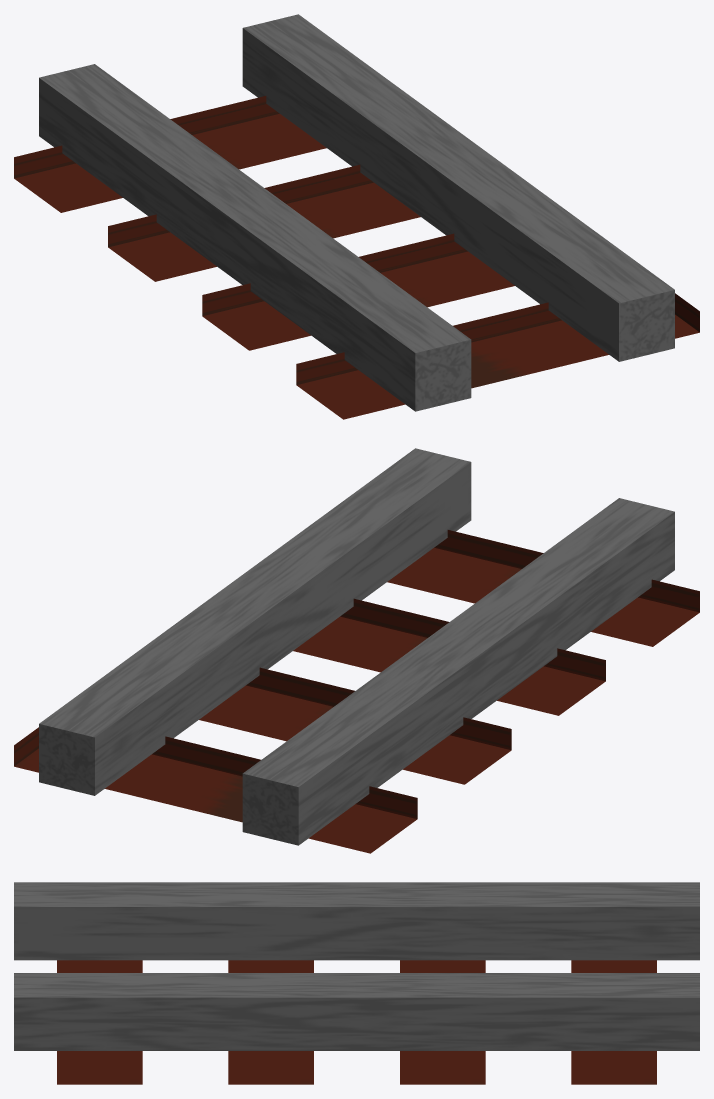
The model's file is RailsForward.fbx.
3 views of the same model, one above another, from view 1: azimuth 30°, elevation 25°; view 2: azimuth 150°, elevation 25°; view 3: azimuth 270°, elevation 25° (orthographic). The views are drawn at different scales.
Parts seen in each view (by area): view 1: Cube.032, Cube.031; view 2: Cube.032, Cube.031; view 3: Cube.032, Cube.031.
Part boxes in pixels (<box>): Cube.032: <box>39,14,674,411</box>; Cube.031: <box>14,96,699,419</box>; Cube.032: <box>39,448,674,845</box>; Cube.031: <box>14,530,699,853</box>; Cube.032: <box>14,882,699,1050</box>; Cube.031: <box>57,960,656,1084</box>.
Size of the model in its own units: 3.5 by 0.6744 by 6.4.
